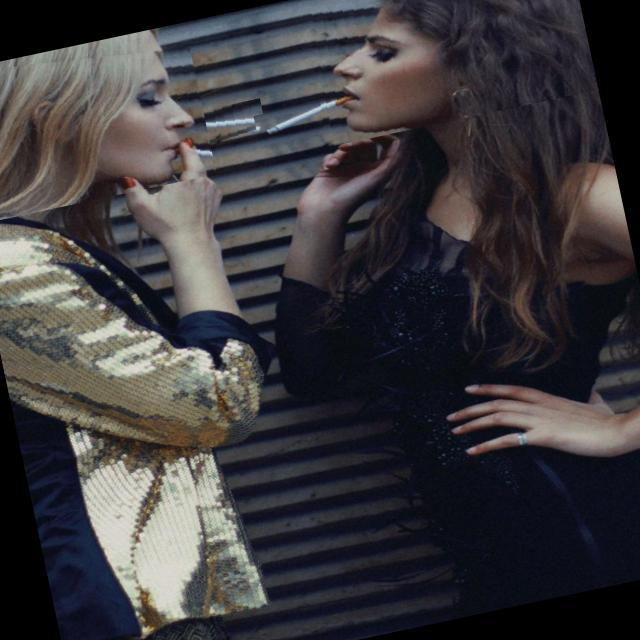cigarette: (253, 91, 373, 142), (170, 98, 268, 154)
